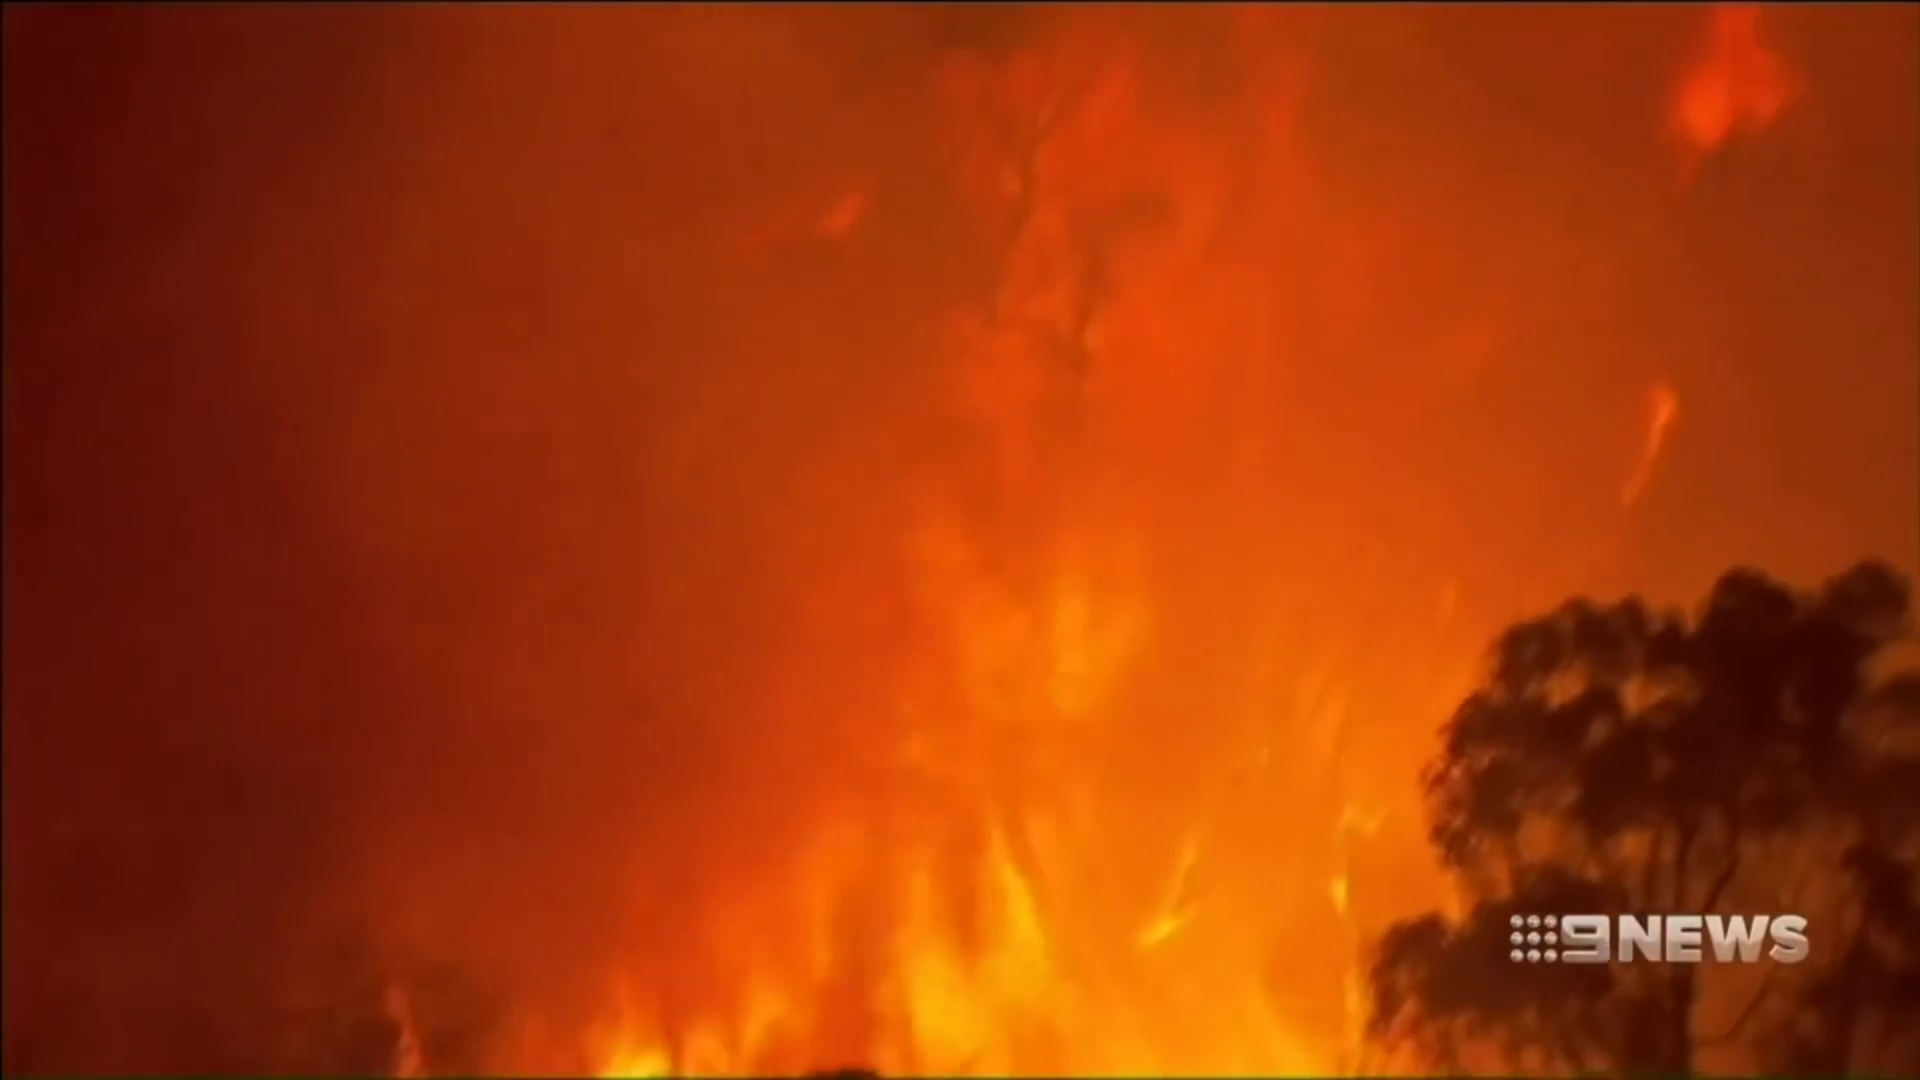fire: (972, 827, 1299, 1080)
